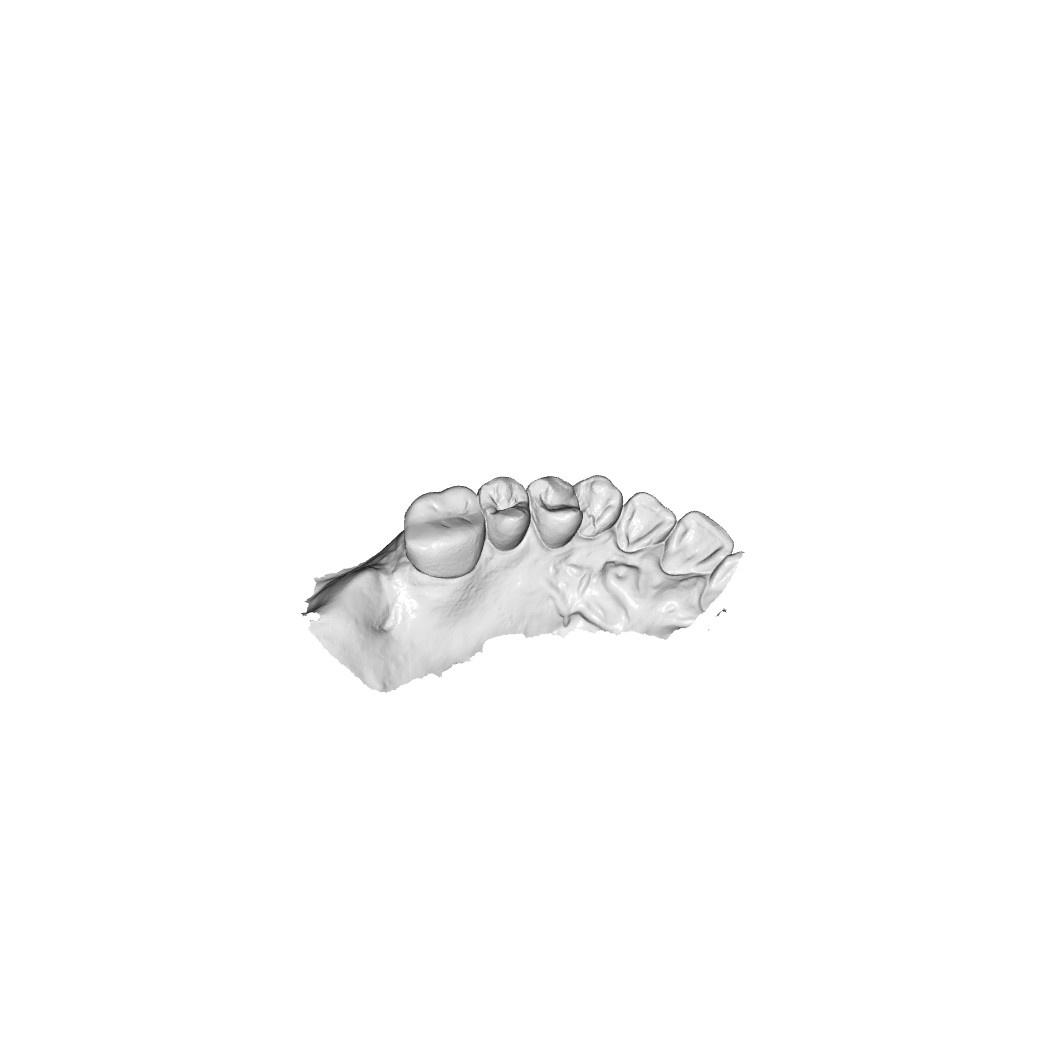canine: (571, 473, 621, 540)
incisor: (657, 510, 729, 580), (614, 489, 674, 556)
molar: (405, 486, 487, 572)
premolar: (478, 475, 536, 550), (532, 476, 580, 542)
